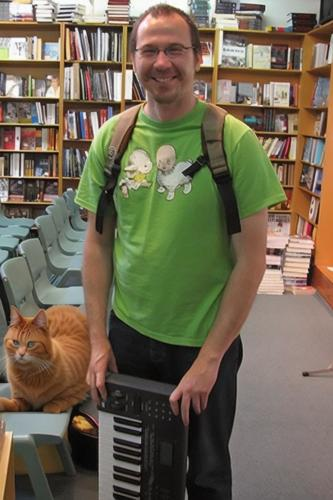cat: (1, 304, 91, 413)
chair: (1, 381, 78, 497), (2, 259, 89, 342), (18, 239, 88, 312), (35, 214, 86, 285), (47, 207, 85, 254), (52, 196, 89, 242), (62, 190, 89, 231), (1, 201, 35, 229)
person: (79, 5, 286, 500)
person/hand: (168, 357, 220, 424), (80, 338, 116, 407)
person/head: (127, 5, 202, 104)
